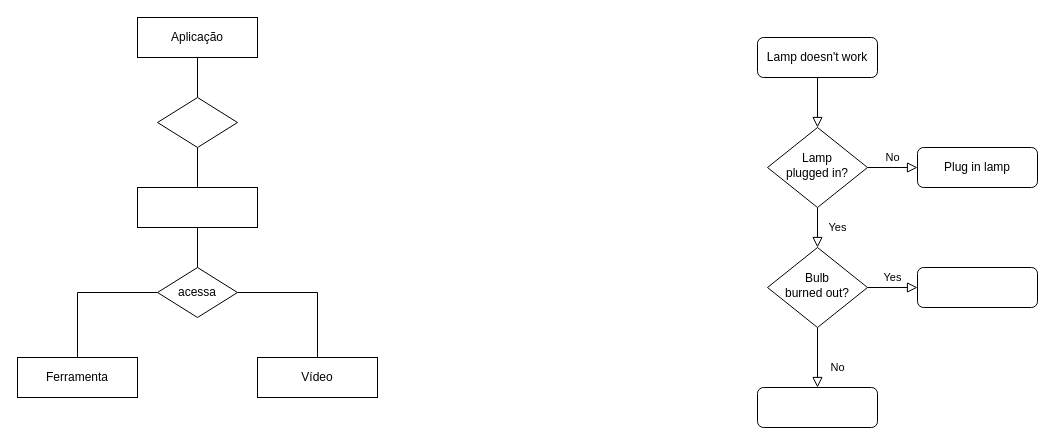
This 1055x445 diagram has some shape labels left out. The shapes that lost their labels are listed below. From the top down, each one's centre as x and y in pixels, then its label:
At point 197,122: "possui".
At point 197,207: "Usuário".
At point 977,287: "Replace Bulb".
At point 817,407: "Repair Lamp".
